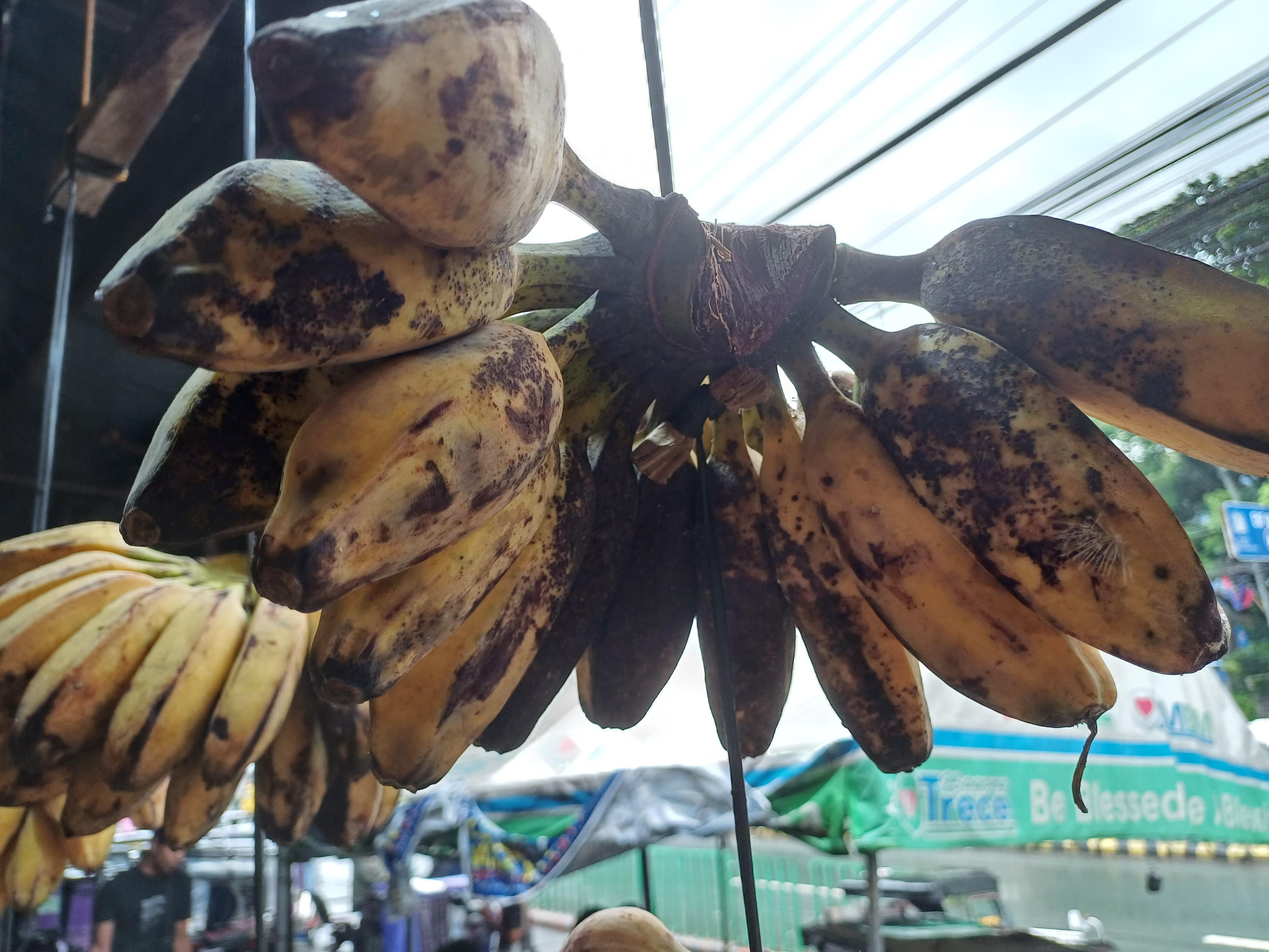ripe: (88, 0, 1269, 790), (0, 519, 401, 850)
